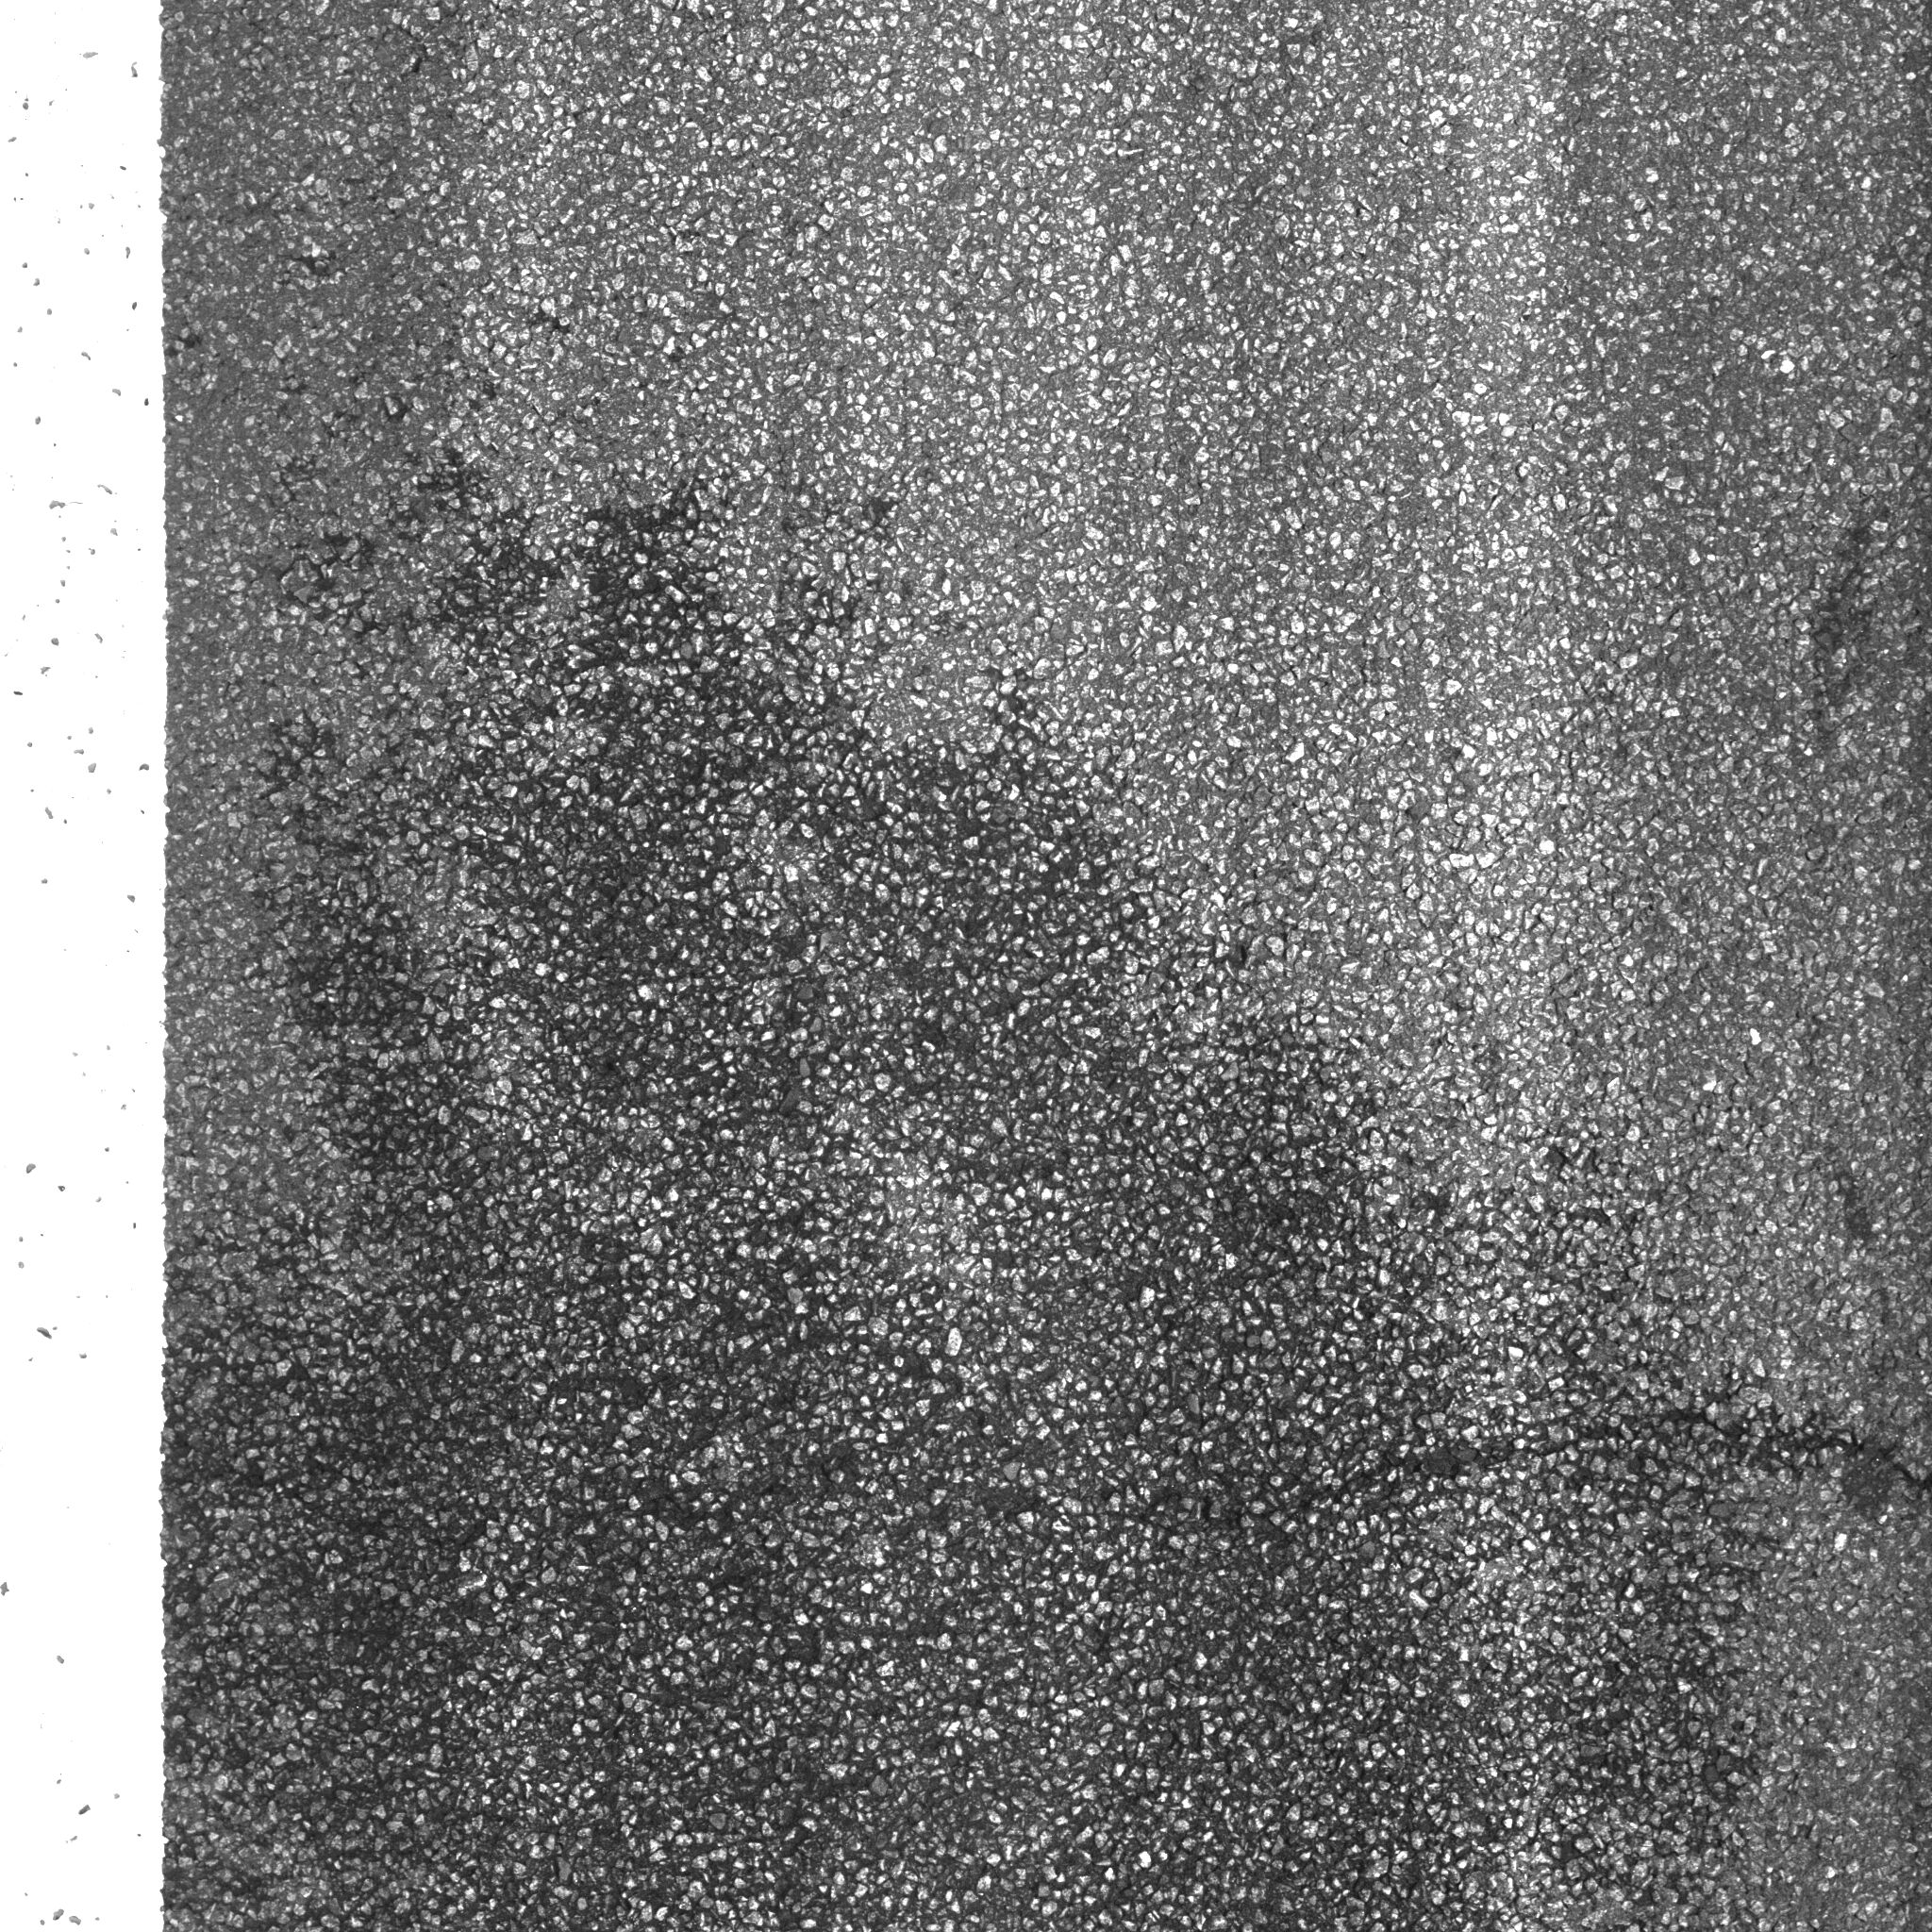transeverse: (1132, 1389, 1932, 1546)
